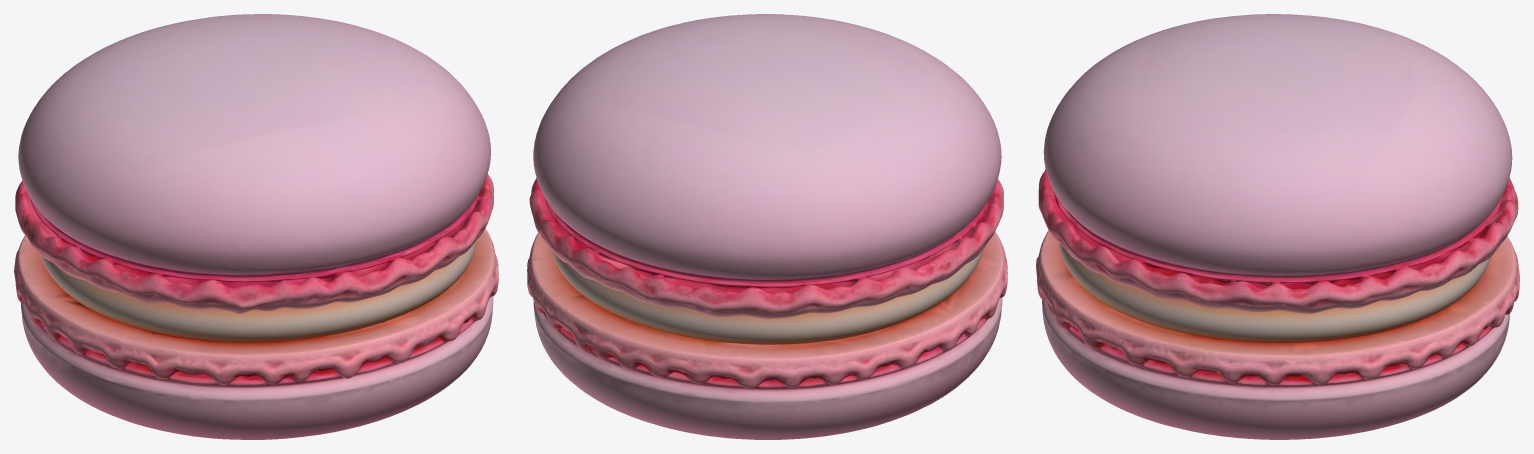
Rendered from macaron-v2.glb.
The picture shows the model from 3 angles, left to right: view 1: azimuth 30°, elevation 25°; view 2: azimuth 150°, elevation 25°; view 3: azimuth 270°, elevation 25°; orthographic projection.
Visible parts, largest first — view 1: macaron; view 2: macaron; view 3: macaron.
Part boxes in pixels (x1,y1,x2,y2): macaron: [14, 14, 498, 439]; macaron: [527, 14, 1007, 439]; macaron: [1036, 14, 1519, 439].
Bounding box in the file's own units: 1.1 × 0.793 × 1.1.
Materials: 1 (1 with a texture image).
